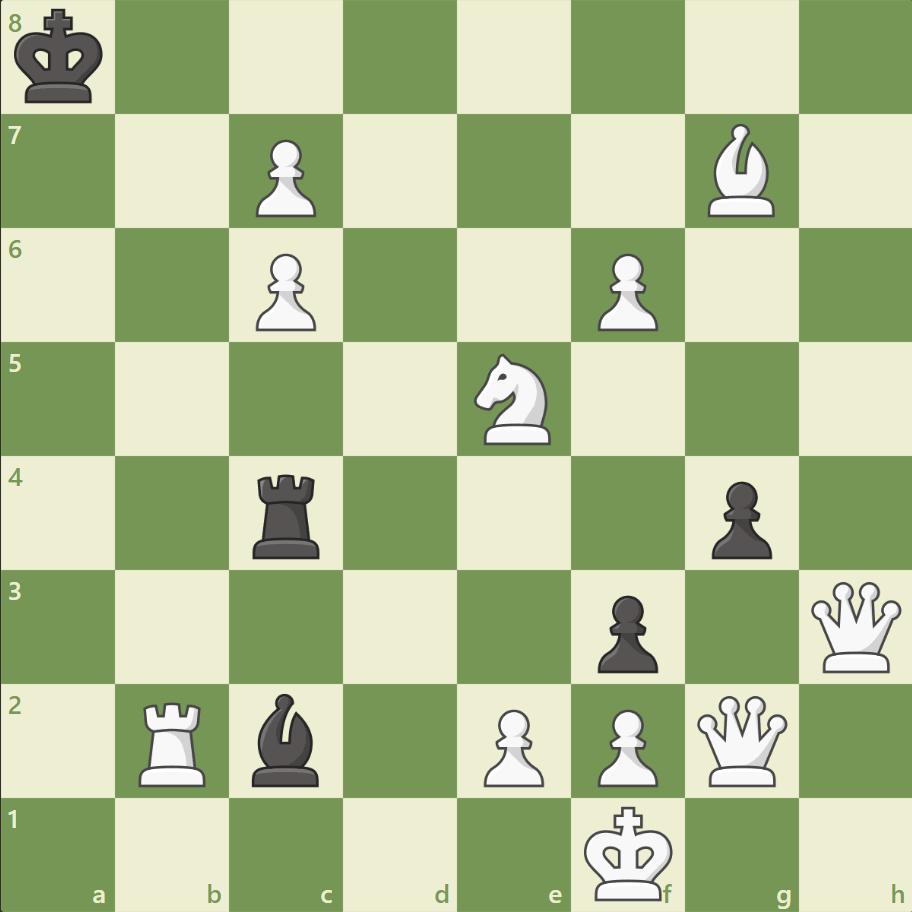B: (698, 120, 782, 222)
K: (579, 798, 679, 906)
N: (465, 348, 562, 450)
P: (247, 132, 322, 223), (247, 246, 322, 337), (474, 700, 549, 791), (588, 246, 662, 337), (588, 700, 662, 791)
Q: (805, 576, 904, 676), (691, 690, 790, 789)
R: (133, 693, 215, 790)
b: (244, 687, 328, 790)
k: (11, 4, 111, 112)
p: (701, 473, 776, 564), (588, 586, 662, 677)
r: (246, 466, 329, 563)
